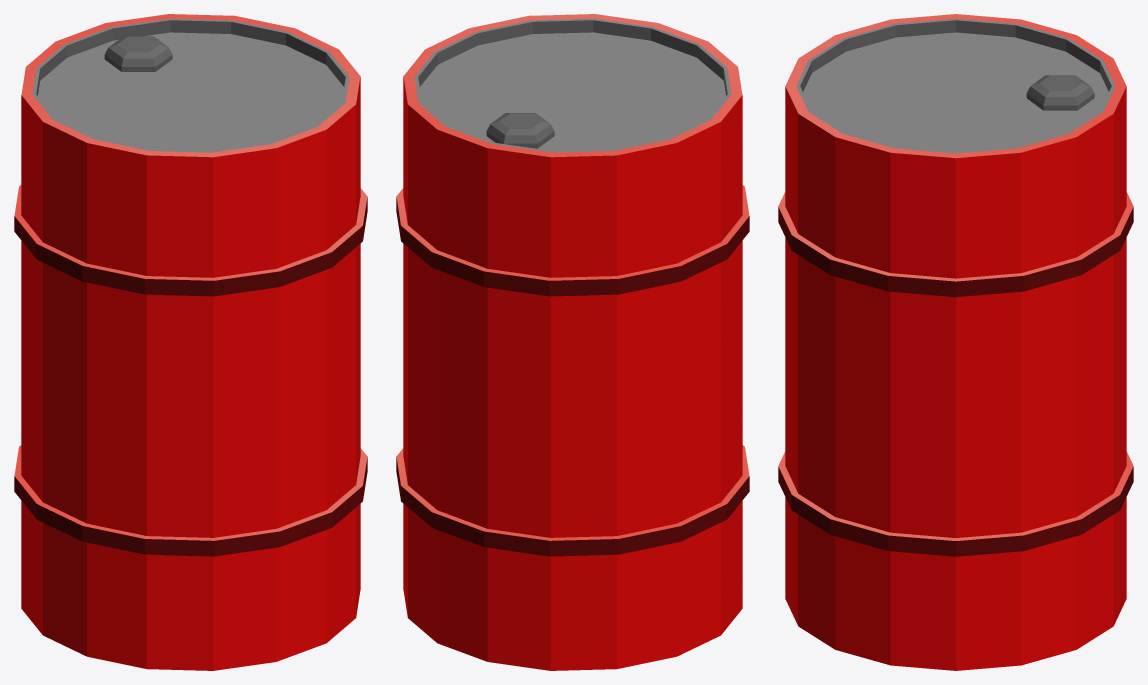
Rendered from SM_Int_MetalBarrel.fbx.
3 views of the same model, side by side, from view 1: azimuth 30°, elevation 25°; view 2: azimuth 150°, elevation 25°; view 3: azimuth 270°, elevation 25° (orthographic).
Visible parts, largest first — view 1: SM_Int_MetalBarrel; view 2: SM_Int_MetalBarrel; view 3: SM_Int_MetalBarrel.
Part boxes in pixels (x1,y1,x2,y2): SM_Int_MetalBarrel: (14, 14, 367, 670); SM_Int_MetalBarrel: (396, 14, 749, 670); SM_Int_MetalBarrel: (778, 14, 1133, 670).
Bounding box in the file's own units: 0.9373 × 1.5 × 0.9373.
Materials: 1 (1 with a texture image).
